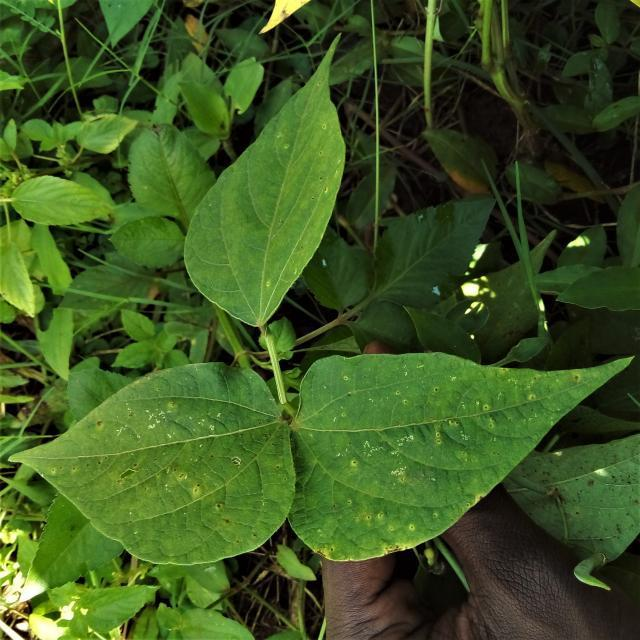hawar: (309, 364, 506, 563), (40, 408, 277, 532), (219, 115, 332, 329)
